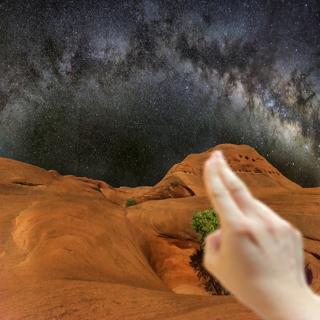DHAVE: (194, 145, 315, 302)
